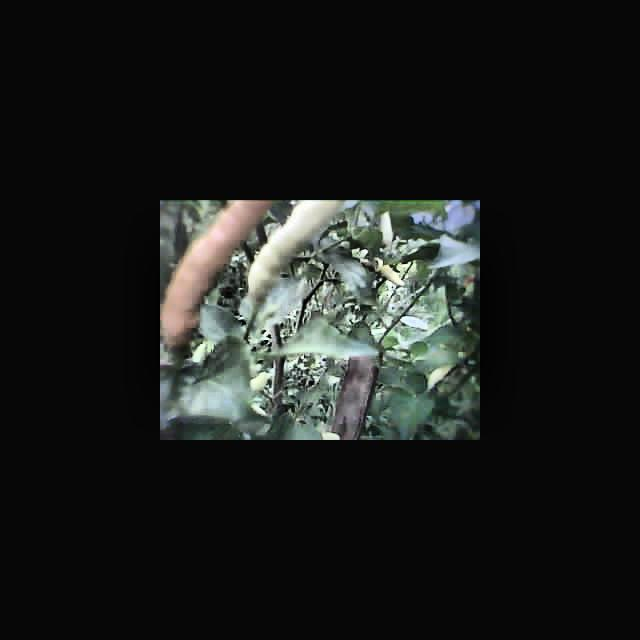Cabai: (160, 200, 243, 335)
